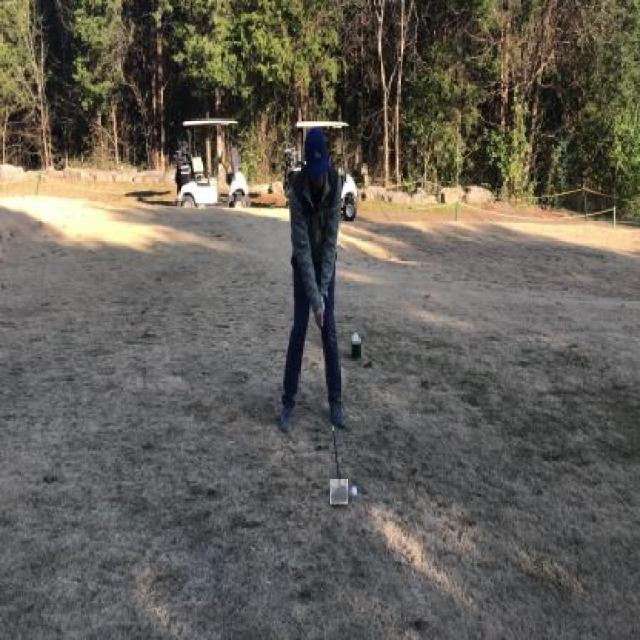club head: (330, 480, 348, 506)
